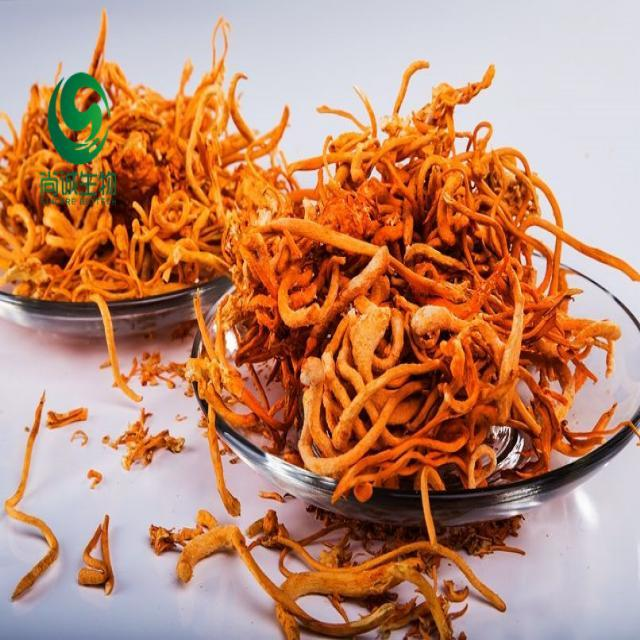Cordyceps militaris: (208, 57, 623, 495), (0, 65, 269, 290), (153, 512, 517, 637), (9, 396, 57, 602)
